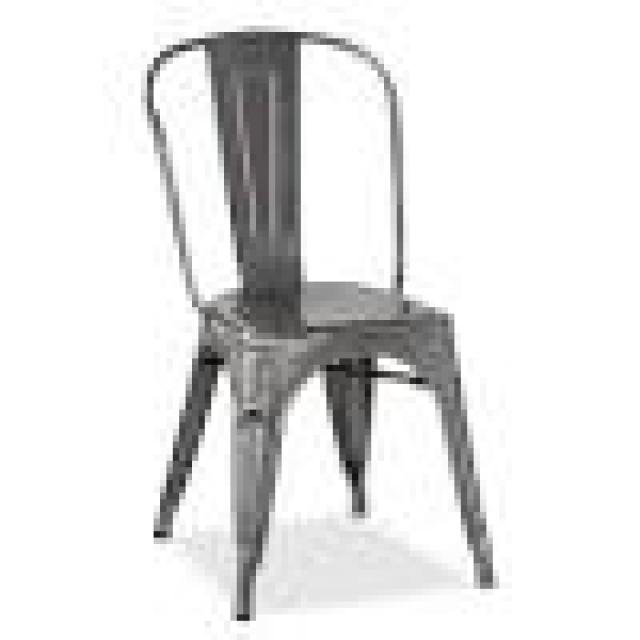chair: (71, 15, 560, 640)
